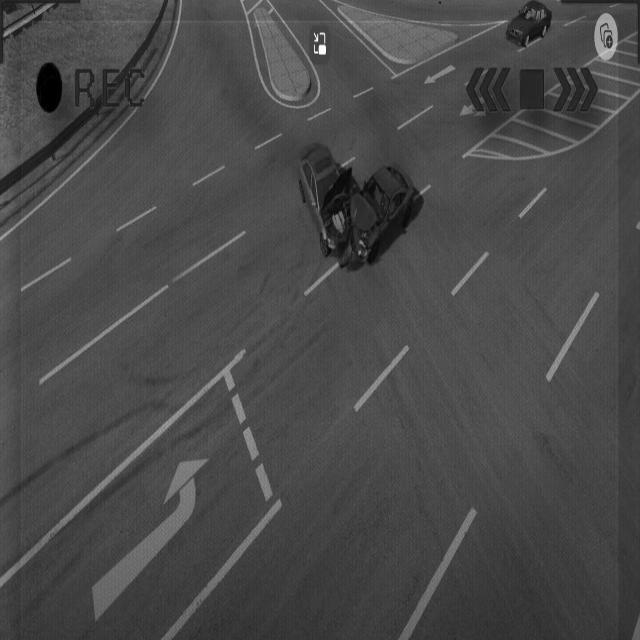accident: (296, 138, 415, 271)
vehicle: (505, 0, 553, 54)
